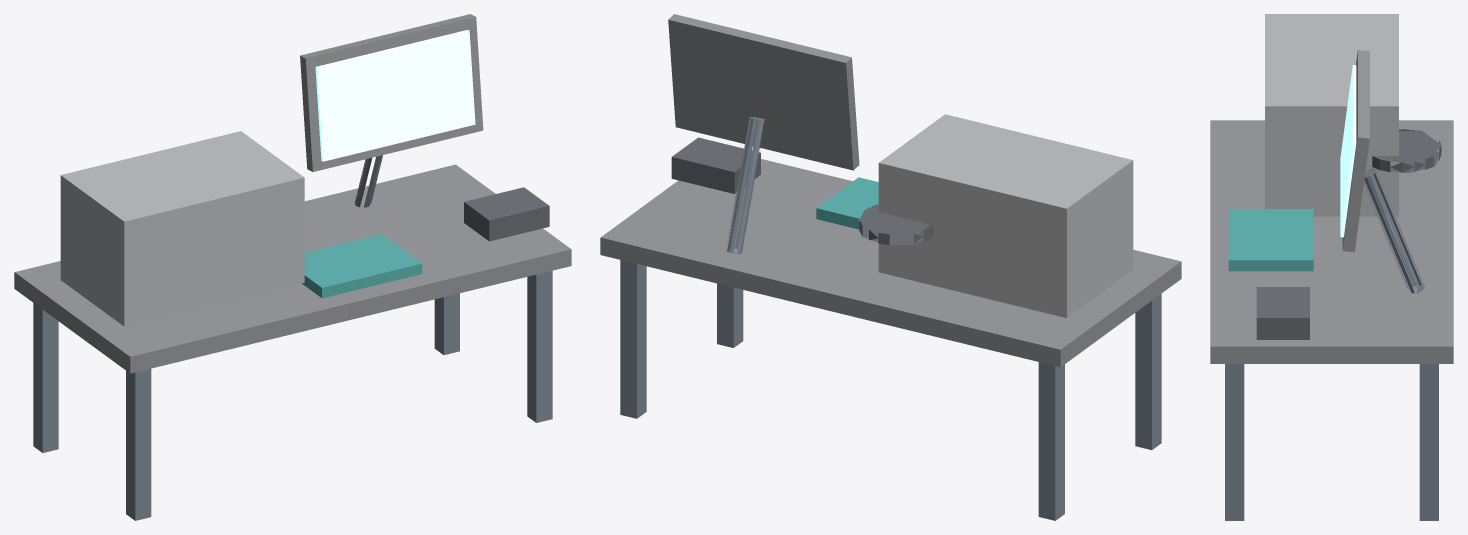
The model's file is computer-bench-lod1.glb.
The picture shows the model from 3 angles, left to right: view 1: azimuth 30°, elevation 25°; view 2: azimuth 150°, elevation 25°; view 3: azimuth 270°, elevation 25°; orthographic projection. The views are drawn at different scales.
Parts seen in each view (by area): view 1: Chassis, Desk, MonitorScreen, Monitor, Tray, Leg, Leg.002, Leg.001, Module, Leg.003, MonitorArm; view 2: Desk, Chassis, Monitor, Leg.001, Leg.003, Leg, Module, MonitorArm, Tray, Fan, Leg.002; view 3: Desk, Chassis, Tray, Leg.002, Leg.003, Module, Monitor, MonitorArm, Fan, MonitorScreen.
Part boxes in pixels (<box>): Chassis: <box>60,131,304,326</box>; Desk: <box>14,164,571,373</box>; MonitorScreen: <box>315,30,475,161</box>; Monitor: <box>300,14,483,171</box>; Tray: <box>302,234,422,298</box>; Leg: <box>126,368,151,520</box>; Leg.002: <box>527,270,552,422</box>; Leg.001: <box>33,303,58,452</box>; Module: <box>464,187,549,241</box>; Leg.003: <box>434,293,459,354</box>; MonitorArm: <box>355,155,382,207</box>; Desk: <box>600,159,1181,367</box>; Chassis: <box>878,114,1133,317</box>; Monitor: <box>668,14,859,170</box>; Leg.001: <box>1038,362,1064,520</box>; Leg.003: <box>620,260,646,418</box>; Leg: <box>1135,294,1161,449</box>; Module: <box>671,137,760,193</box>; MonitorArm: <box>725,117,765,253</box>; Tray: <box>816,177,878,229</box>; Fan: <box>858,204,932,245</box>; Leg.002: <box>717,283,743,347</box>; Desk: <box>1210,120,1453,363</box>; Chassis: <box>1265,14,1398,216</box>; Tray: <box>1228,209,1313,271</box>; Leg.002: <box>1225,364,1244,520</box>; Leg.003: <box>1419,364,1438,520</box>; Module: <box>1256,287,1309,339</box>; Monitor: <box>1342,50,1369,252</box>; MonitorArm: <box>1364,169,1424,293</box>; Fan: <box>1372,129,1442,172</box>; MonitorScreen: <box>1340,65,1356,237</box>.
Bounding box in the file's own units: 2.2 × 1.71 × 1.
